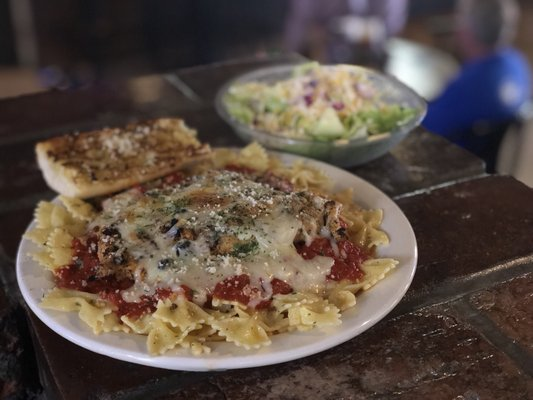sushi: (215, 60, 428, 168)
